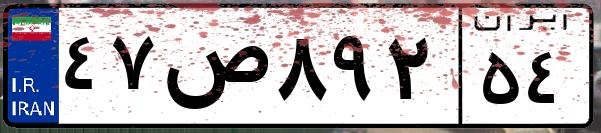2: (385, 28, 445, 110)
4: (57, 26, 110, 100), (525, 38, 570, 115)
5: (475, 38, 525, 113)
7: (110, 28, 158, 98)
8: (270, 28, 330, 110)
9: (330, 28, 385, 110)
ص: (158, 20, 270, 120)
